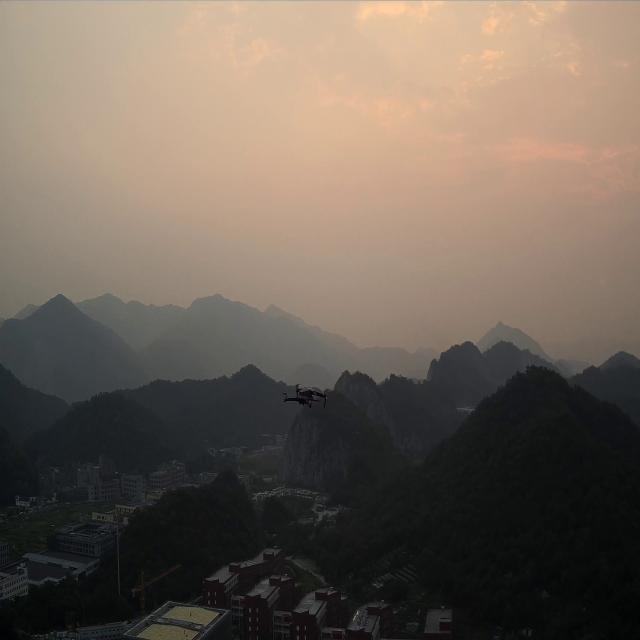UAV: (282, 383, 328, 409)
